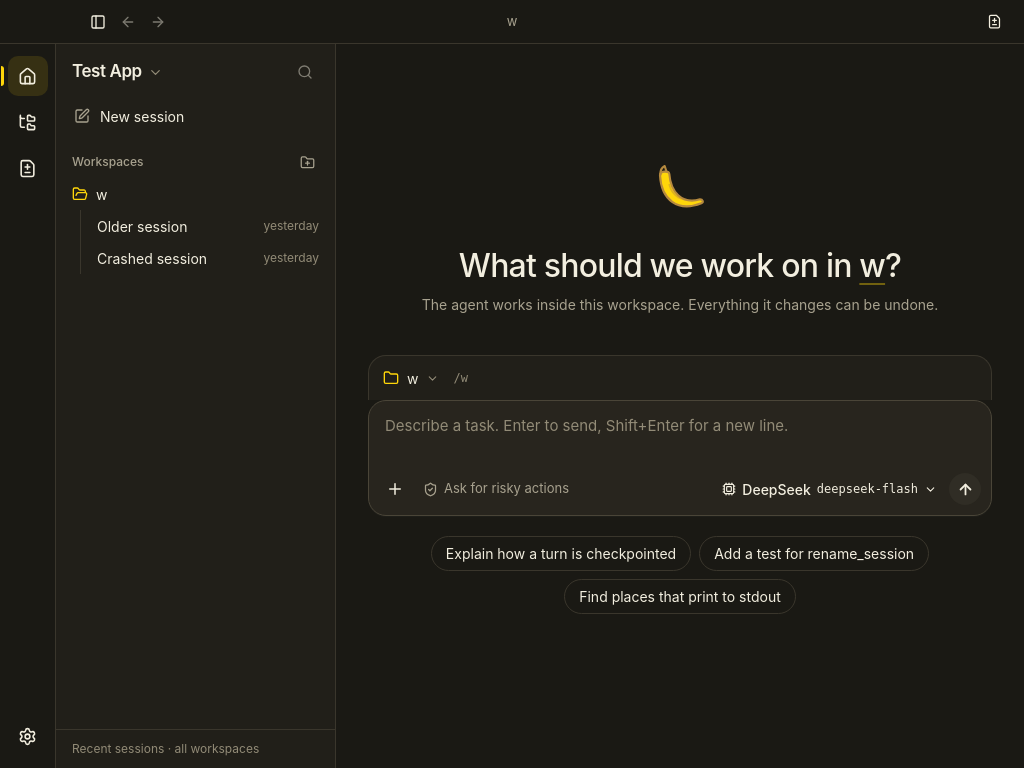
Test: the first turn from home › a failed start brings the text back with the error and removes the prompt
Check: the text "Older session" is shown, box [97,218,187,234]
Type "try this" into the text box labelled "task".
click(680, 435); type("try this")  # box [369,401,991,469]
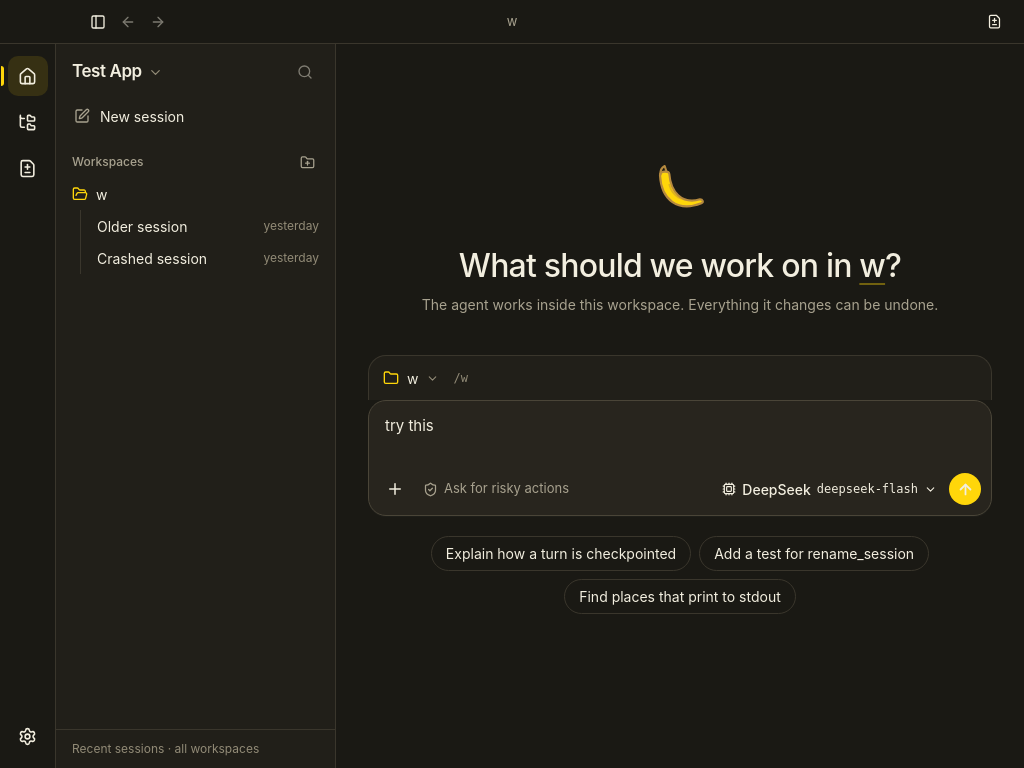
Click the button named "Send".
click(965, 489)  # box [949,473,981,505]
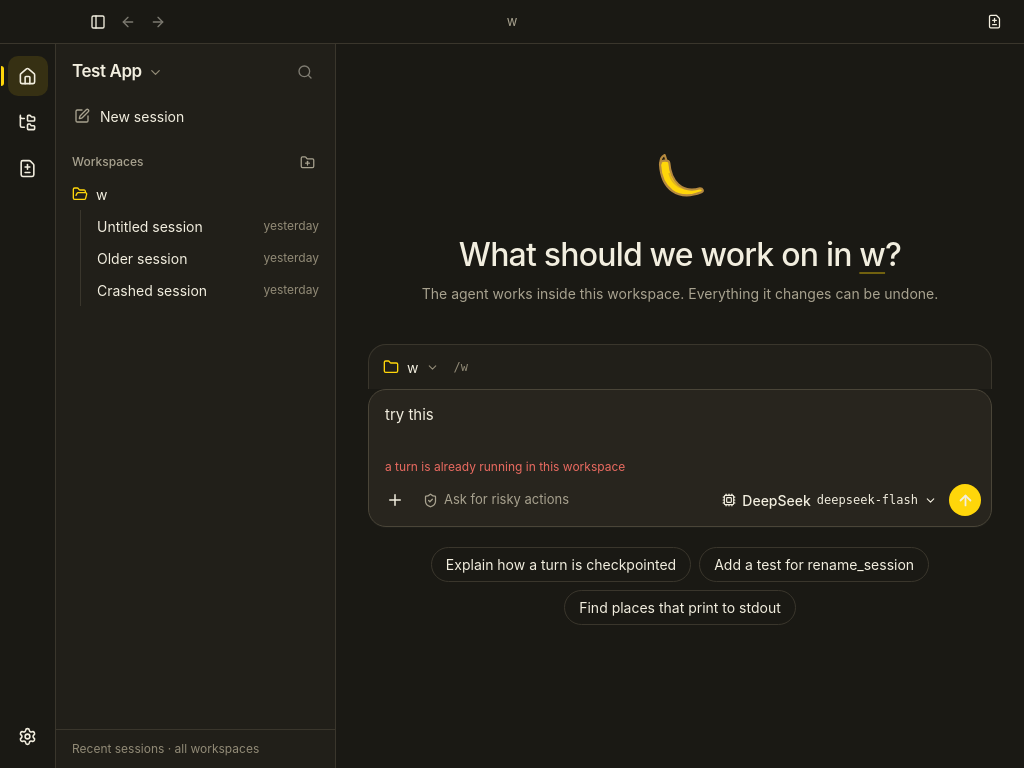
Check: the text box named "task" holds "try this", box [369,390,991,458]
Check: the message shows "already running", box [385,459,625,474]
